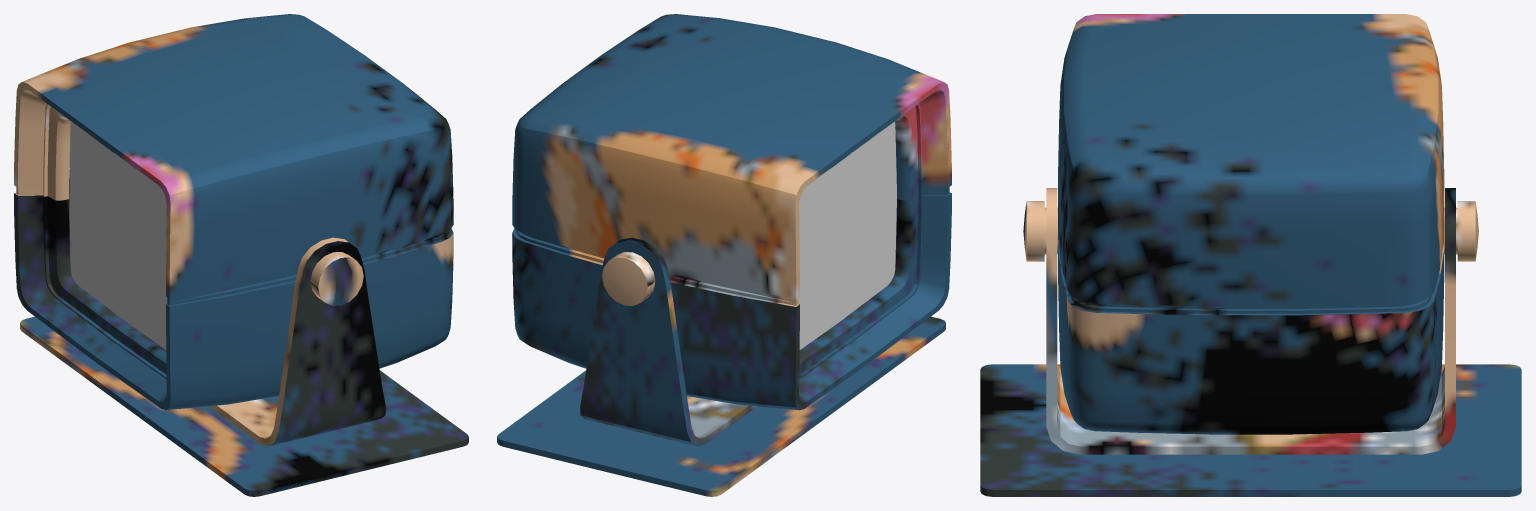
The picture shows the model from 3 angles, left to right: view 1: azimuth 30°, elevation 25°; view 2: azimuth 150°, elevation 25°; view 3: azimuth 270°, elevation 25°; orthographic projection. The views are drawn at different scales.
Parts seen in each view (by area): view 1: ordinador_1.001, ordinador_2.001, ordinador_3.001; view 2: ordinador_1.001, ordinador_2.001, ordinador_3.001; view 3: ordinador_1.001, ordinador_2.001.
Boxes of the visible parts, x1=… form: ordinador_1.001: x1=14, y1=14, x2=453, y2=410; ordinador_2.001: x1=20, y1=237, x2=468, y2=496; ordinador_3.001: x1=69, y1=122, x2=167, y2=349; ordinador_1.001: x1=512, y1=14, x2=951, y2=410; ordinador_2.001: x1=497, y1=237, x2=945, y2=496; ordinador_3.001: x1=798, y1=122, x2=896, y2=349; ordinador_1.001: x1=1023, y1=14, x2=1478, y2=434; ordinador_2.001: x1=980, y1=188, x2=1521, y2=496.
Bounding box in the file's own units: 71.39 × 68.61 × 97.67.
